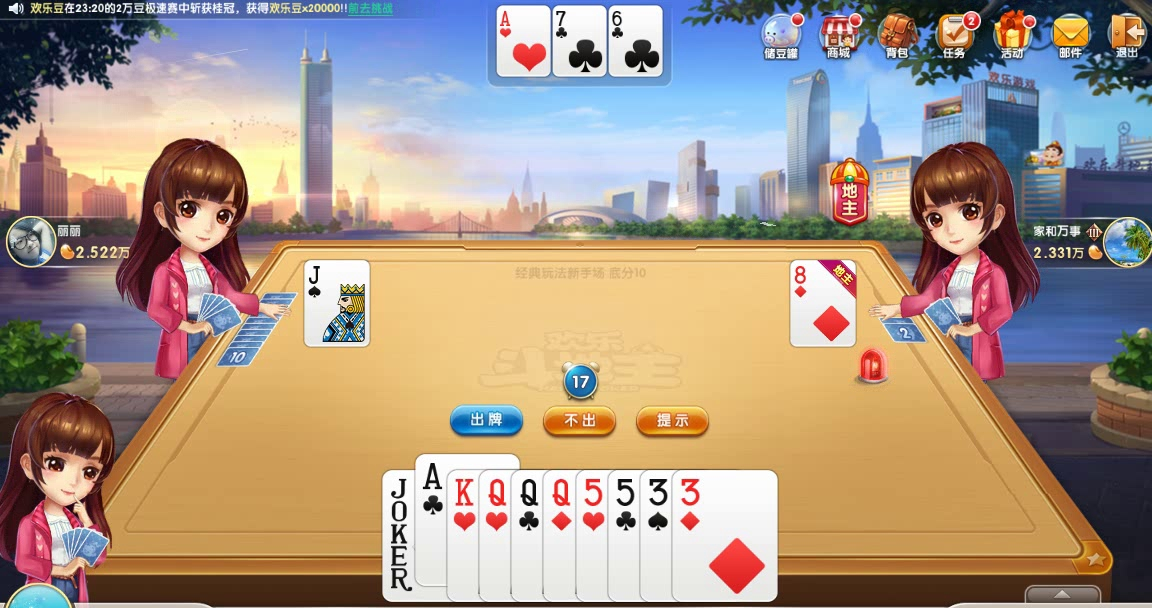11~4: (304, 260, 370, 347)
12~1: (541, 466, 647, 603)
12~2: (509, 466, 615, 603)
12~3: (478, 466, 584, 603)
13~3: (446, 466, 552, 603)
14~2: (415, 455, 521, 592)
14~3: (495, 4, 550, 77)
17~3: (382, 466, 488, 603)
3~1: (672, 466, 778, 603)
3~4: (638, 466, 744, 603)
5~2: (607, 466, 713, 603)
5~3: (575, 466, 681, 603)
6~2: (608, 4, 663, 77)
7~2: (552, 4, 607, 77)
8~1: (791, 260, 858, 348)
